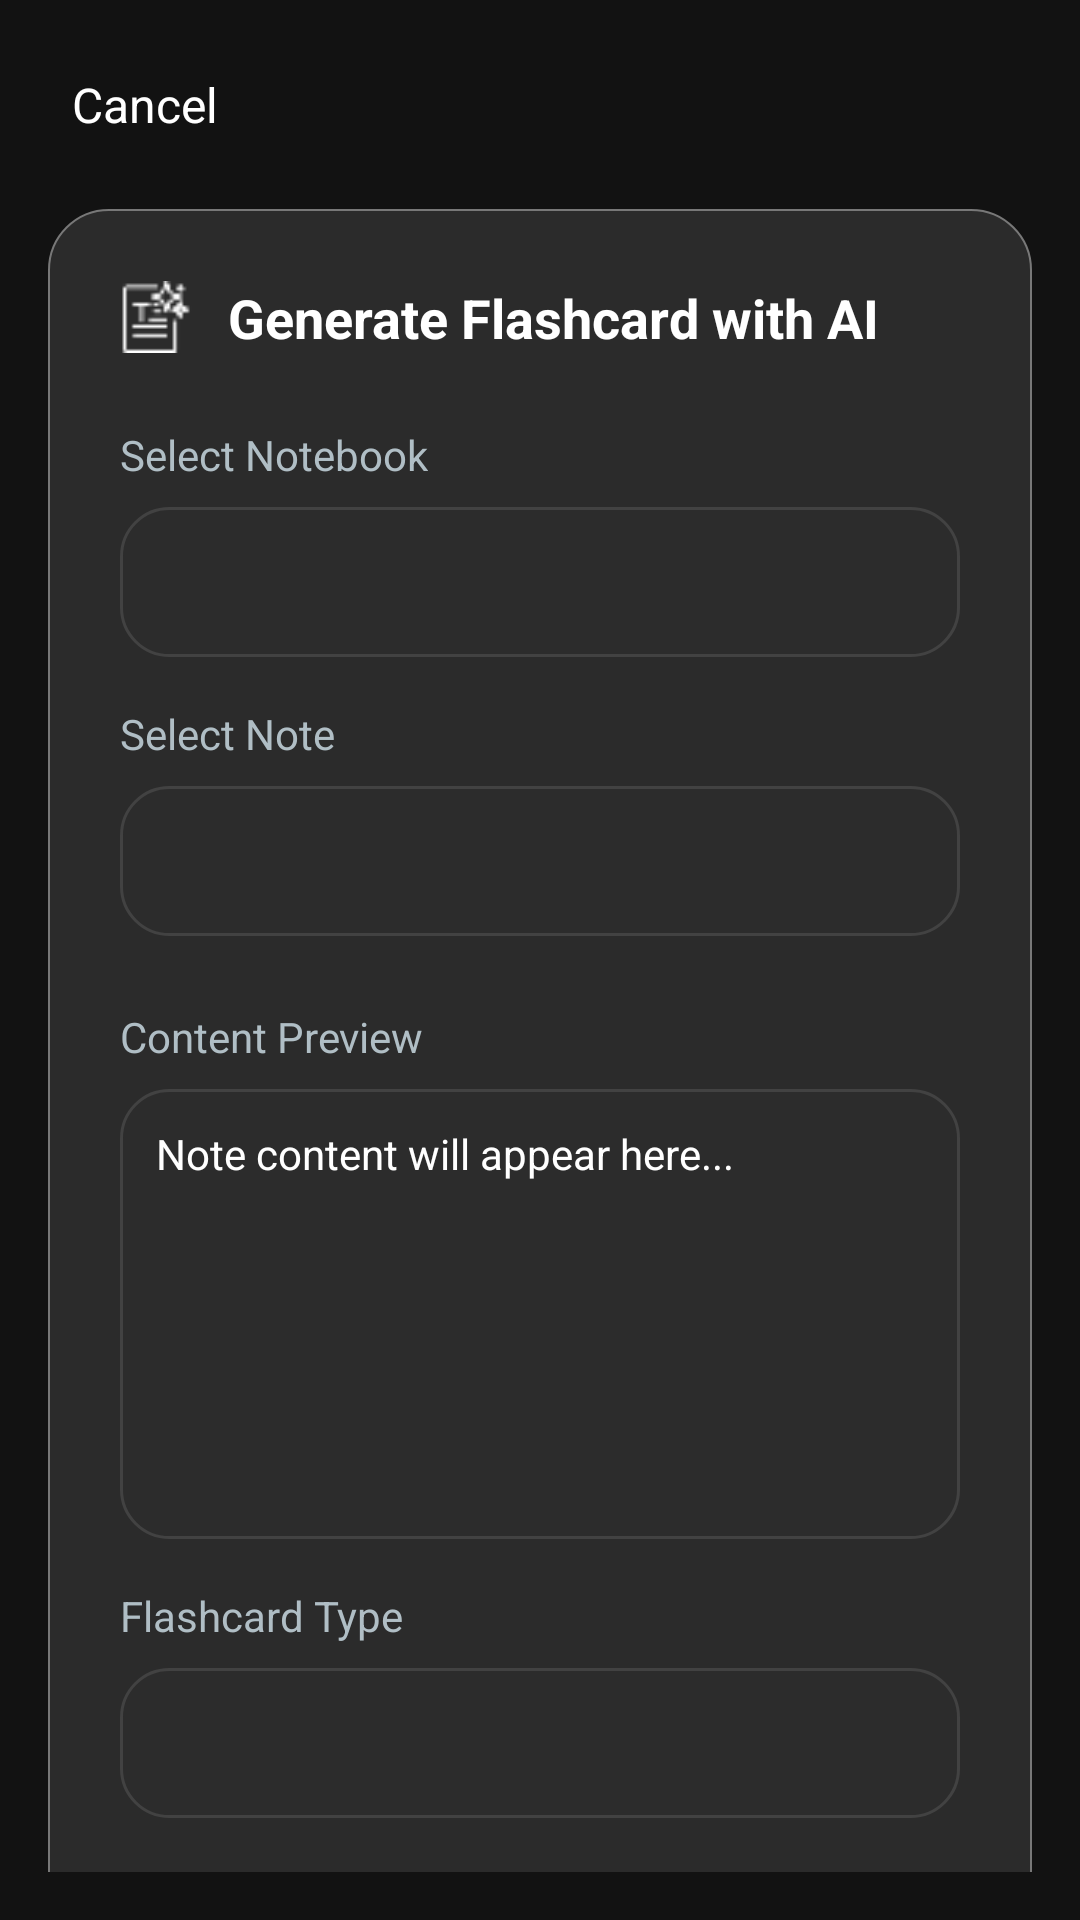

Icons on this 1080×1920 Android screen, each with the point to tap as point (x, y):
aisummarize: point (156, 317)
